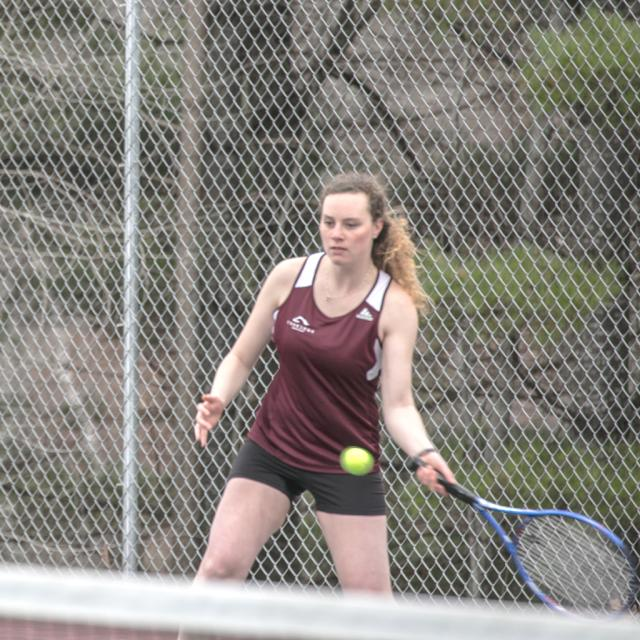Tennis Ball: (342, 447, 373, 474)
